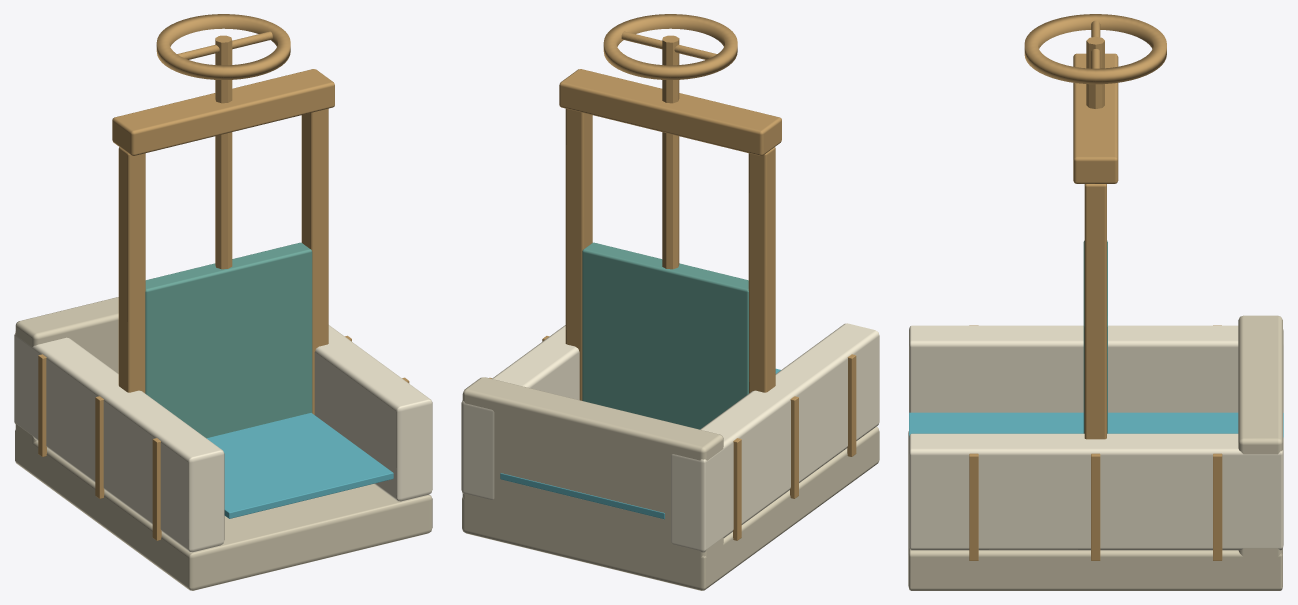
File: fantasy-bathhouse-and-thermal-sanctuary-fantasy-bathho-d9b2db3b__29444.glb
The picture shows the model from 3 angles, left to right: view 1: azimuth 30°, elevation 25°; view 2: azimuth 150°, elevation 25°; view 3: azimuth 270°, elevation 25°; orthographic projection. The views are drawn at different scales.
Parts seen in each view (by area): view 1: fantasy-bathhouse-and-thermal-sanctuary-sluice-gate; view 2: fantasy-bathhouse-and-thermal-sanctuary-sluice-gate; view 3: fantasy-bathhouse-and-thermal-sanctuary-sluice-gate.
Boxes of the visible parts, bbox=[...] form: fantasy-bathhouse-and-thermal-sanctuary-sluice-gate: bbox=[14, 14, 432, 590]; fantasy-bathhouse-and-thermal-sanctuary-sluice-gate: bbox=[461, 14, 879, 590]; fantasy-bathhouse-and-thermal-sanctuary-sluice-gate: bbox=[908, 14, 1283, 590].
Size of the model in its own units: 0.828 by 1.44 by 1.
